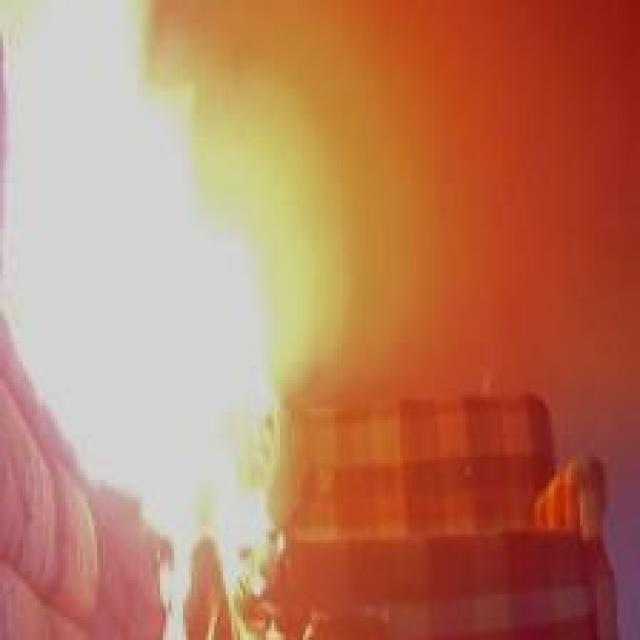Fire: (1, 0, 296, 640)
